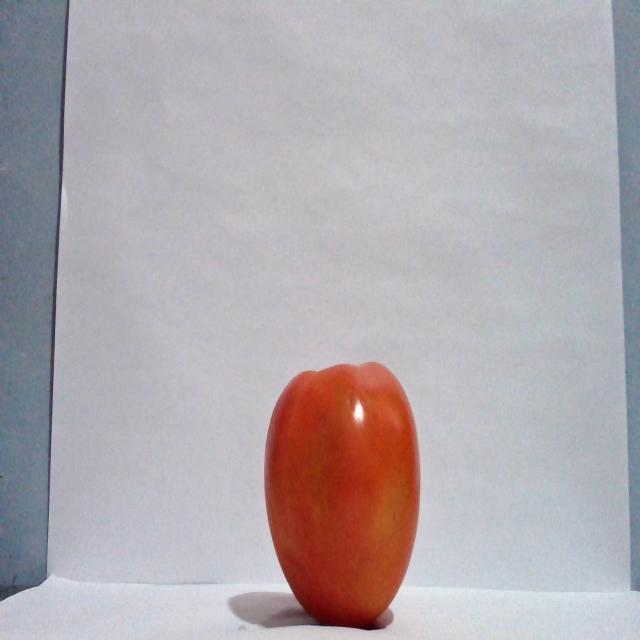Red: (262, 360, 421, 628)
